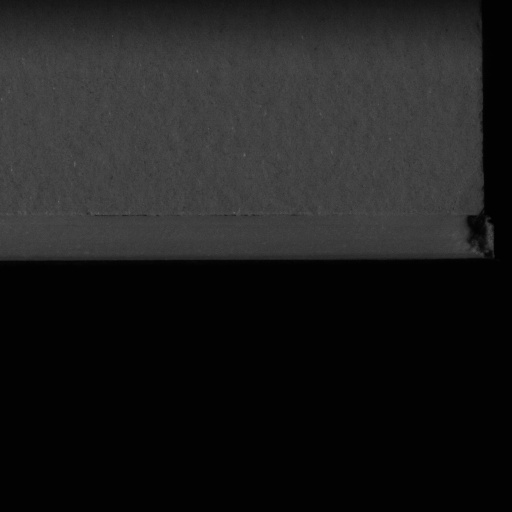bengque: (461, 204, 493, 261)
